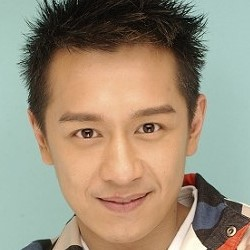unmask: (35, 73, 191, 244)
